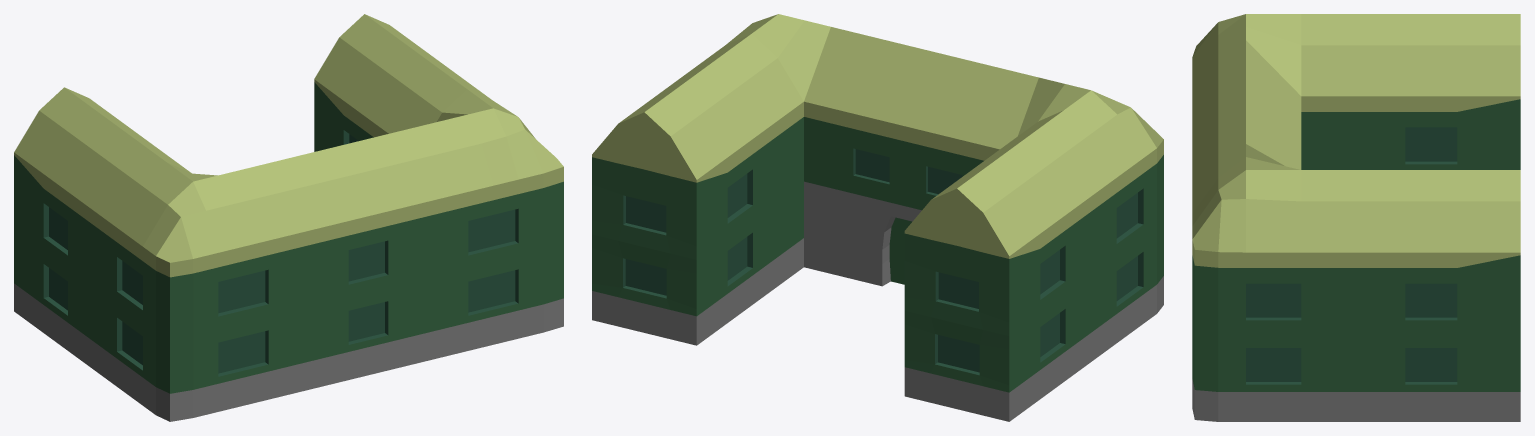
Rendered from barrack_V2.fbx.
3 views of the same model, side by side, from view 1: azimuth 30°, elevation 25°; view 2: azimuth 150°, elevation 25°; view 3: azimuth 270°, elevation 25° (orthographic). The views are drawn at different scales.
Visible parts, largest first — view 1: barrack; view 2: barrack; view 3: barrack.
Part boxes in pixels (box(x1,y1,x2,y2)): barrack: box(14, 14, 563, 421); barrack: box(592, 14, 1163, 421); barrack: box(1192, 14, 1520, 421).
Bounding box in the file's own units: 4197 × 2121 × 2794.
